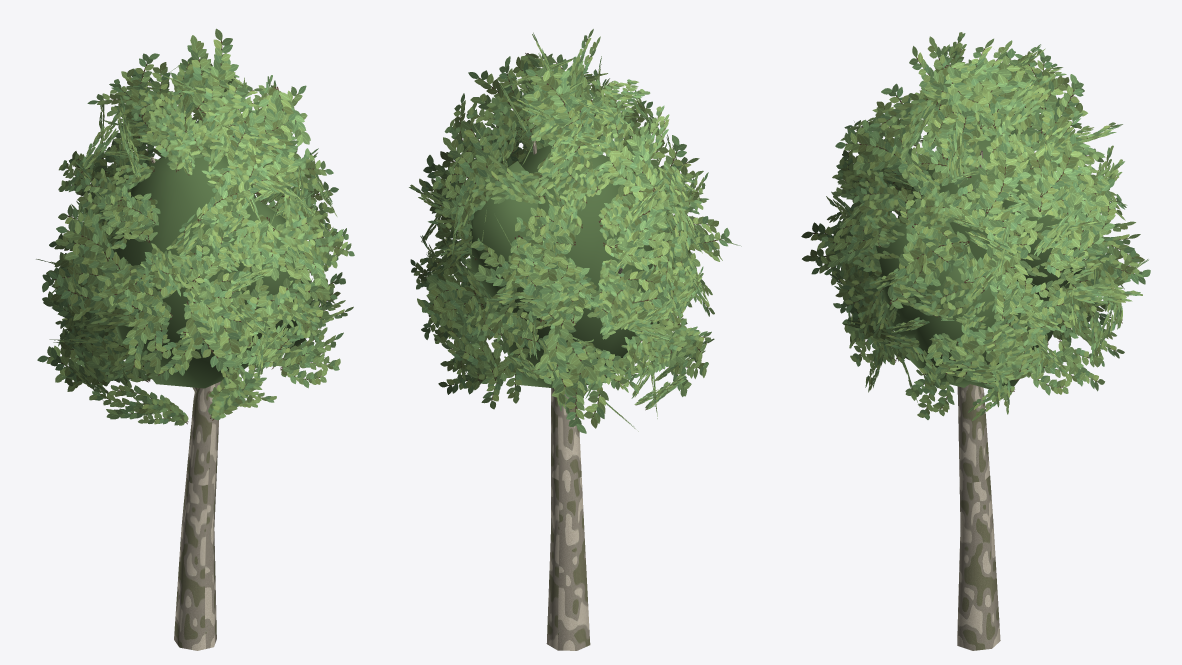
Rendered from POPULUS_1.glb.
3 renders of one model, left to right at view 1: azimuth 30°, elevation 25°; view 2: azimuth 150°, elevation 25°; view 3: azimuth 270°, elevation 25°, orthographic. The views are drawn at different scales.
Parts seen in each view (by area): view 1: Arv_POPULUS_lod1; view 2: Arv_POPULUS_lod1; view 3: Arv_POPULUS_lod1.
Part boxes in pixels (bbox=[...]): Arv_POPULUS_lod1: bbox=[36, 28, 354, 650]; Arv_POPULUS_lod1: bbox=[409, 29, 741, 650]; Arv_POPULUS_lod1: bbox=[801, 32, 1150, 650].
Bounding box in the file's own units: 5.67 × 10.62 × 5.98.
3 materials, 2 textured.
